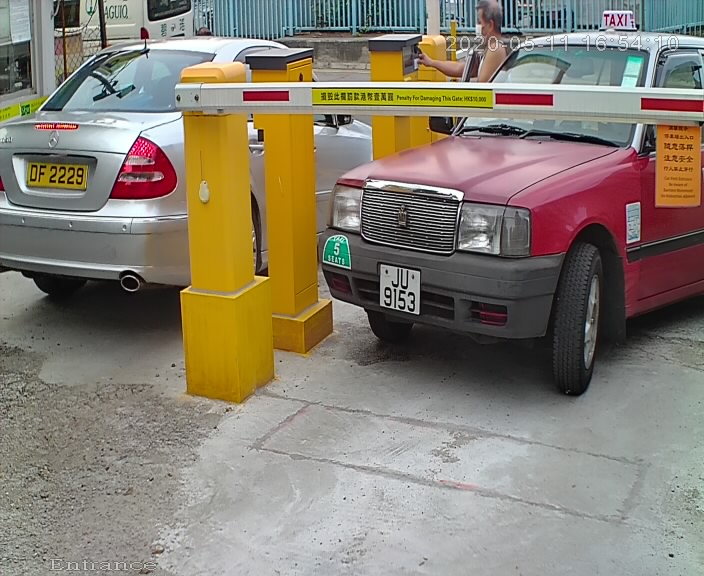taxi: (308, 5, 704, 407)
taxi_mark: (314, 230, 360, 279)
